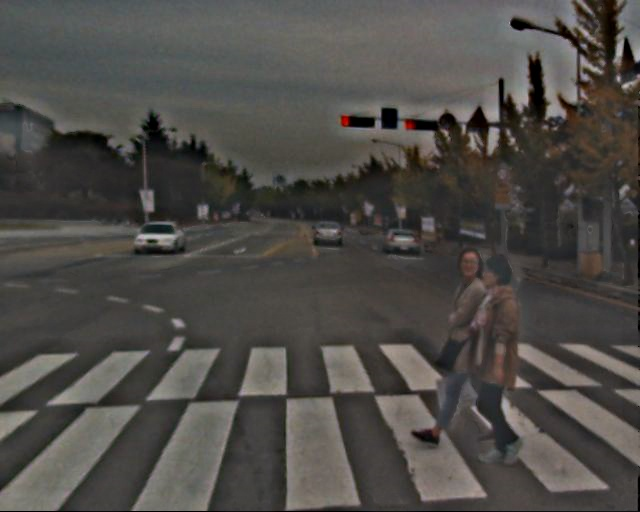person: (456, 257, 535, 465), (433, 239, 504, 445)
